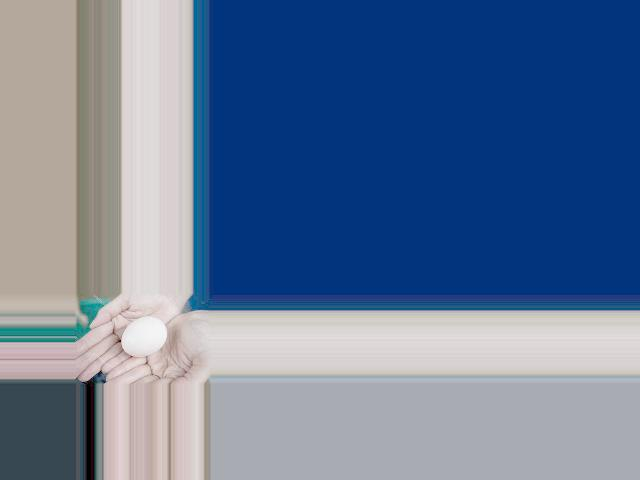egg: (121, 317, 166, 356)
